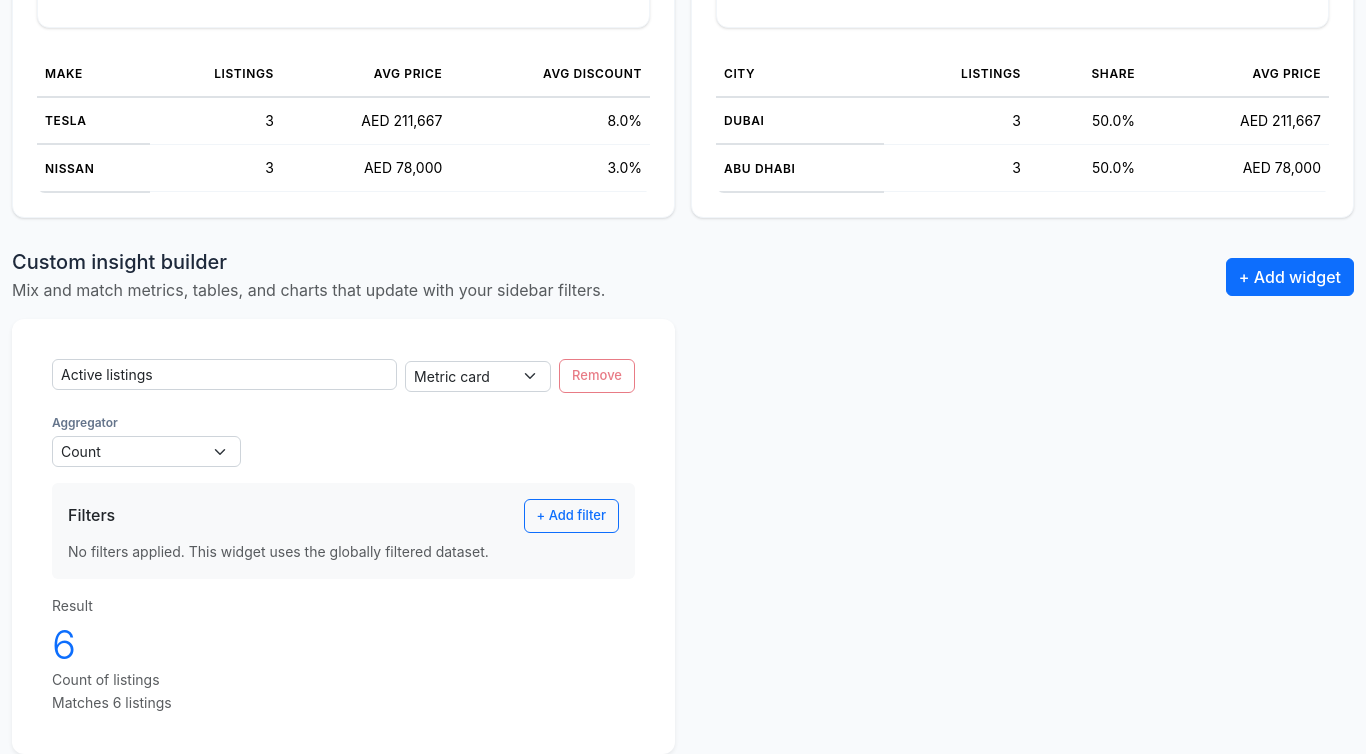
Analytics page › renders chart previews when configured
(page scrolled)
expect the element with placeholder "name your insight" is shown: met, box [12,319,675,753]
Select "Chart" in the dropdown named "select widget type": (478,376) [405,361,551,392]
(page scrolled)
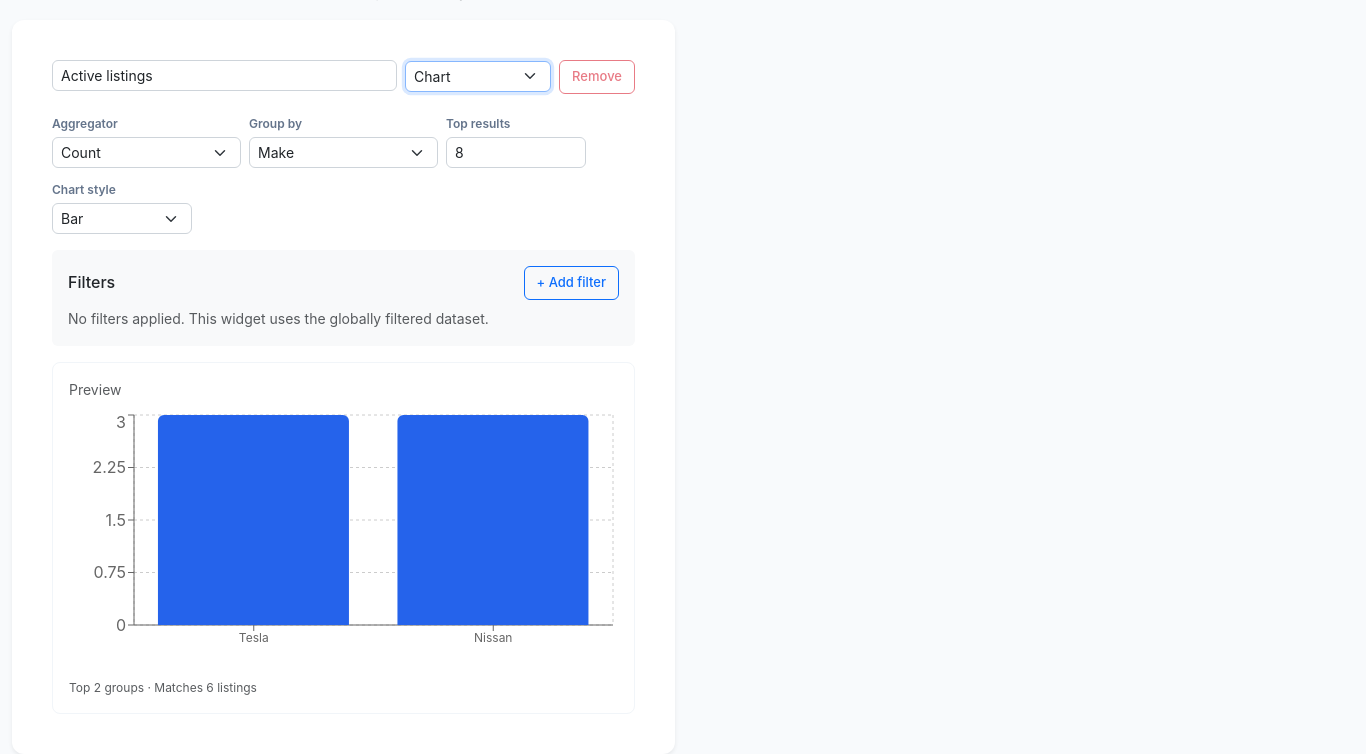
expect the text "Top 2 groups · Matches 6 listings" is shown: met, box [69,680,257,695]
